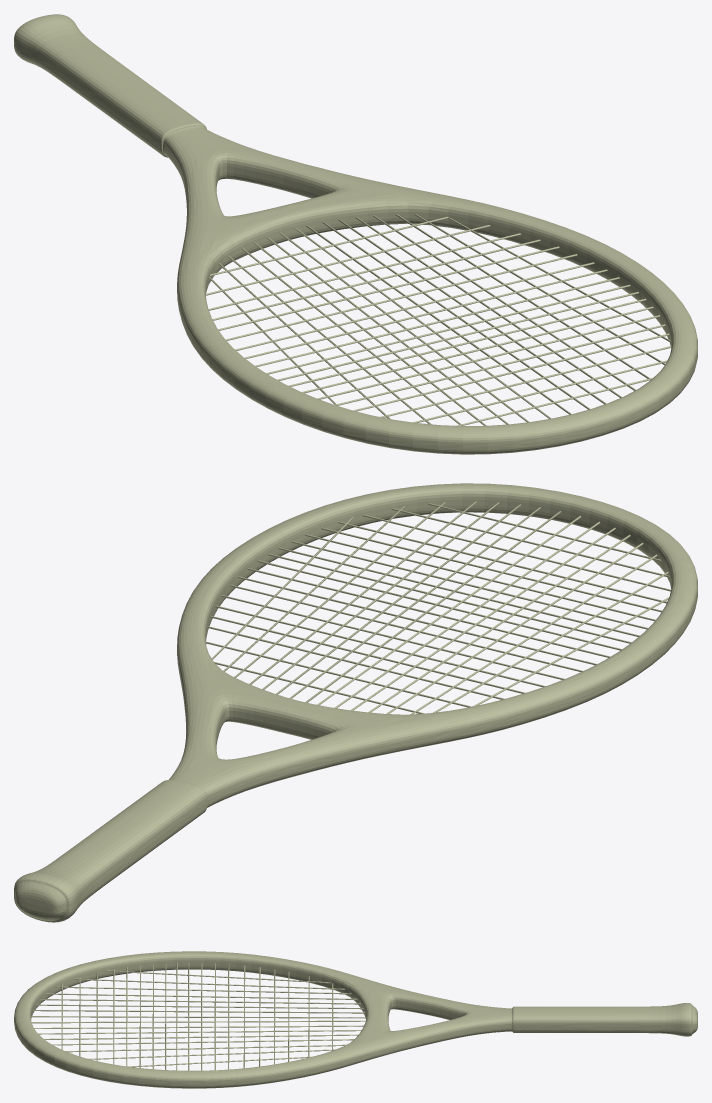
The model's file is racket_up.obj.
3 renders of one model, top to bottom at view 1: azimuth 30°, elevation 25°; view 2: azimuth 150°, elevation 25°; view 3: azimuth 270°, elevation 25°, orthographic. The views are drawn at different scales.
Visible parts, largest first — view 1: obj_0; view 2: obj_0; view 3: obj_0.
Boxes of the visible parts, left/top/right/bottom form: obj_0: left=14, top=14, right=697, bottom=454; obj_0: left=14, top=483, right=697, bottom=922; obj_0: left=14, top=951, right=697, bottom=1088.
Size of the model in its own units: 30.35 by 2.93 by 68.73.
